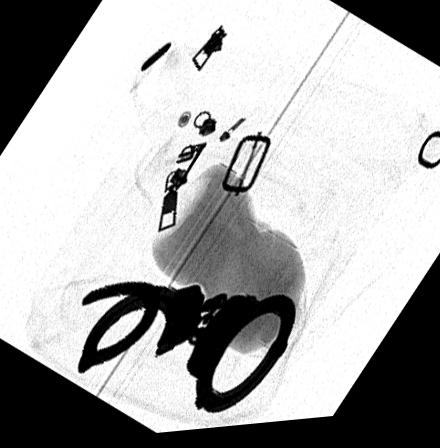HandCuffs: (75, 284, 294, 417)
